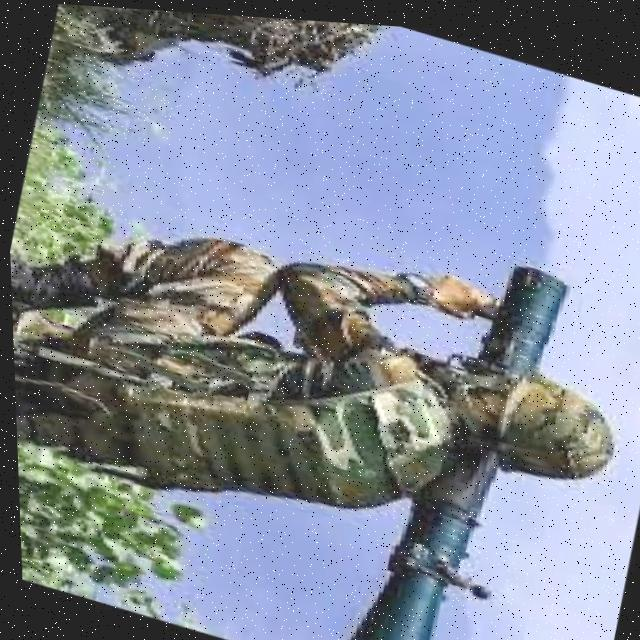rocket: (325, 228, 586, 640)
